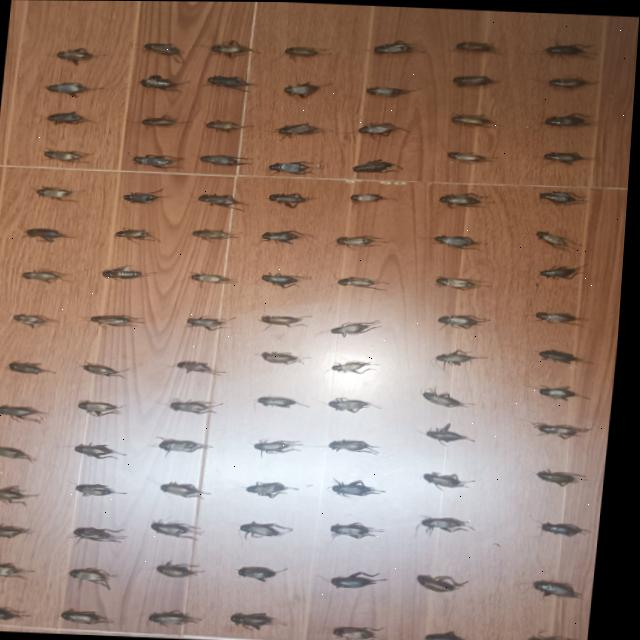no egg: (427, 385, 479, 406), (76, 566, 121, 588), (239, 611, 294, 629), (339, 569, 394, 586), (431, 421, 479, 440), (1, 403, 51, 421), (540, 421, 596, 437), (140, 73, 191, 90), (424, 573, 475, 590), (540, 578, 588, 596), (0, 485, 45, 504), (543, 468, 593, 485), (247, 520, 300, 536), (337, 521, 390, 537), (157, 609, 209, 625), (429, 471, 481, 487), (338, 479, 392, 494), (158, 521, 208, 537), (211, 39, 258, 56), (252, 481, 305, 496), (69, 608, 121, 623), (80, 443, 132, 458), (163, 436, 215, 451), (428, 516, 480, 531), (143, 42, 184, 61), (271, 191, 319, 207), (47, 81, 98, 96), (440, 348, 491, 363), (437, 233, 488, 248), (201, 193, 248, 209), (179, 359, 229, 374), (245, 565, 295, 580), (544, 384, 594, 399), (270, 159, 323, 173), (0, 560, 41, 578), (335, 438, 384, 453), (548, 520, 597, 535), (545, 111, 597, 125), (207, 74, 255, 89), (265, 272, 313, 287), (543, 263, 591, 278), (80, 526, 131, 540), (340, 275, 391, 289), (442, 313, 493, 327), (167, 481, 214, 496), (545, 42, 592, 57), (264, 229, 314, 243), (354, 157, 404, 171), (543, 348, 593, 362), (333, 396, 379, 411), (106, 265, 159, 278), (438, 275, 491, 288), (135, 153, 184, 167), (359, 121, 408, 135), (539, 310, 591, 323), (84, 399, 126, 415), (174, 398, 222, 412), (165, 560, 206, 576), (538, 230, 579, 246), (82, 482, 132, 495), (341, 625, 391, 638), (28, 227, 74, 241), (442, 191, 487, 205), (336, 320, 384, 333), (338, 234, 390, 246), (17, 313, 61, 327), (542, 189, 589, 202), (87, 361, 130, 375), (0, 445, 40, 460), (452, 113, 498, 126), (94, 314, 148, 325), (276, 122, 325, 134), (545, 150, 594, 162), (118, 227, 163, 240), (263, 314, 316, 325), (265, 351, 313, 363), (38, 186, 79, 200), (201, 154, 253, 165), (336, 359, 380, 372), (285, 81, 320, 97), (45, 149, 91, 161), (142, 114, 188, 126), (260, 439, 306, 451), (449, 150, 495, 162), (261, 395, 311, 406), (12, 360, 54, 373), (191, 315, 230, 329), (367, 85, 416, 96), (57, 46, 94, 60), (548, 76, 599, 86), (125, 190, 167, 202), (453, 74, 498, 85), (285, 45, 329, 56), (0, 606, 37, 619), (0, 524, 37, 537), (207, 118, 247, 130), (26, 270, 68, 281), (456, 40, 498, 51), (193, 272, 239, 282), (195, 228, 241, 238), (374, 39, 412, 51), (433, 629, 474, 640), (536, 633, 582, 640), (353, 192, 392, 200), (61, 119, 69, 121)
